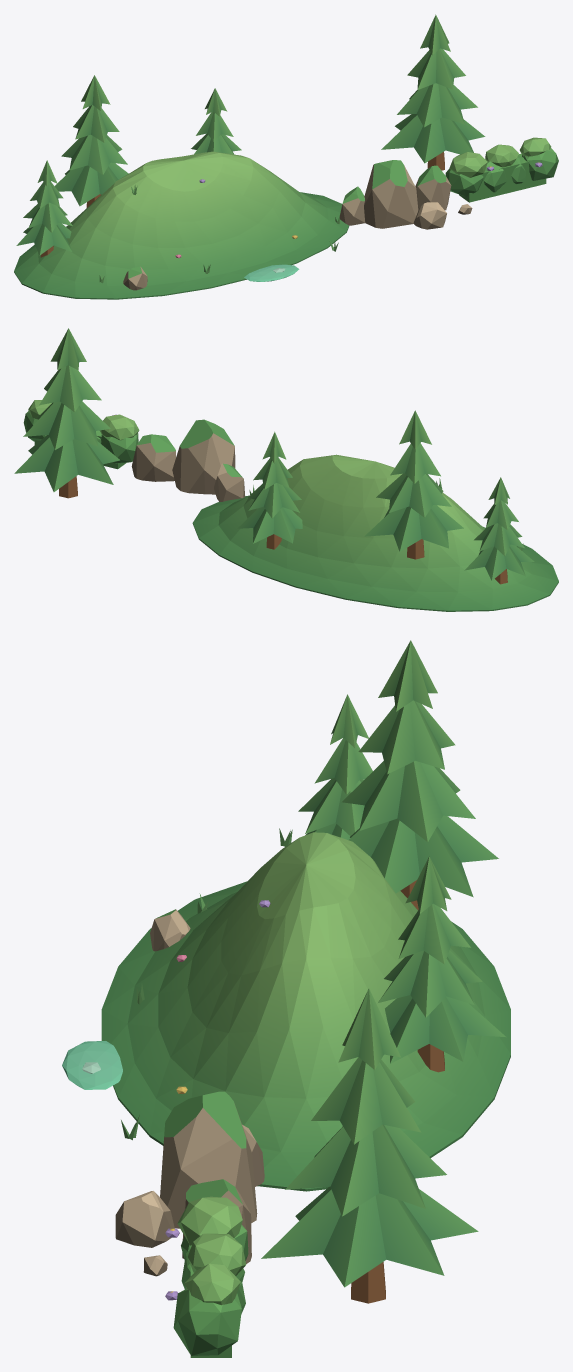
The model's file is ranch_border_chunk_b.fbx.
3 renders of one model, top to bottom at view 1: azimuth 30°, elevation 25°; view 2: azimuth 150°, elevation 25°; view 3: azimuth 270°, elevation 25°, orthographic. The views are drawn at different scales.
Parts seen in each view (by area): view 1: ranch_border_chunk_b; view 2: ranch_border_chunk_b; view 3: ranch_border_chunk_b.
Boxes of the visible parts, x1,y1,x2,y2 form: ranch_border_chunk_b: (14, 14, 558, 299); ranch_border_chunk_b: (14, 328, 558, 611); ranch_border_chunk_b: (62, 640, 510, 1357).
Size of the model in its own units: 56.89 by 17.81 by 21.72.
